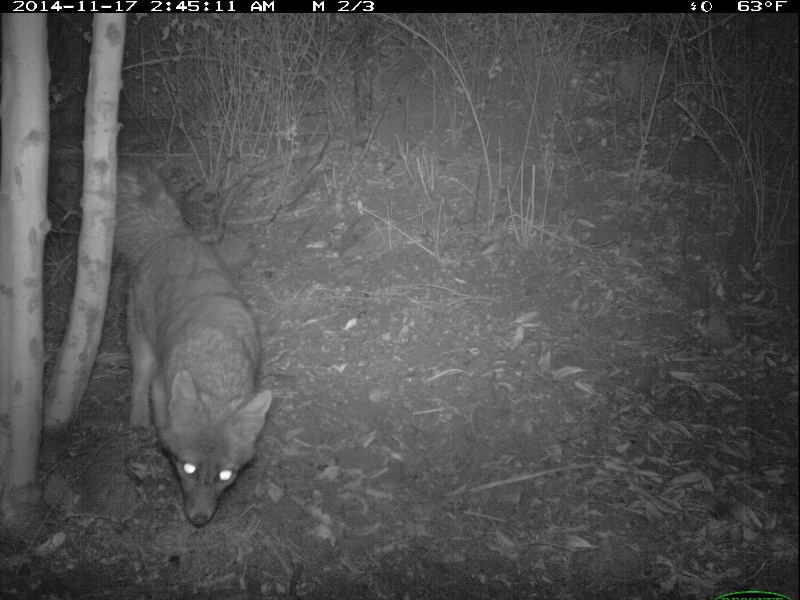fox: (101, 142, 274, 526)
